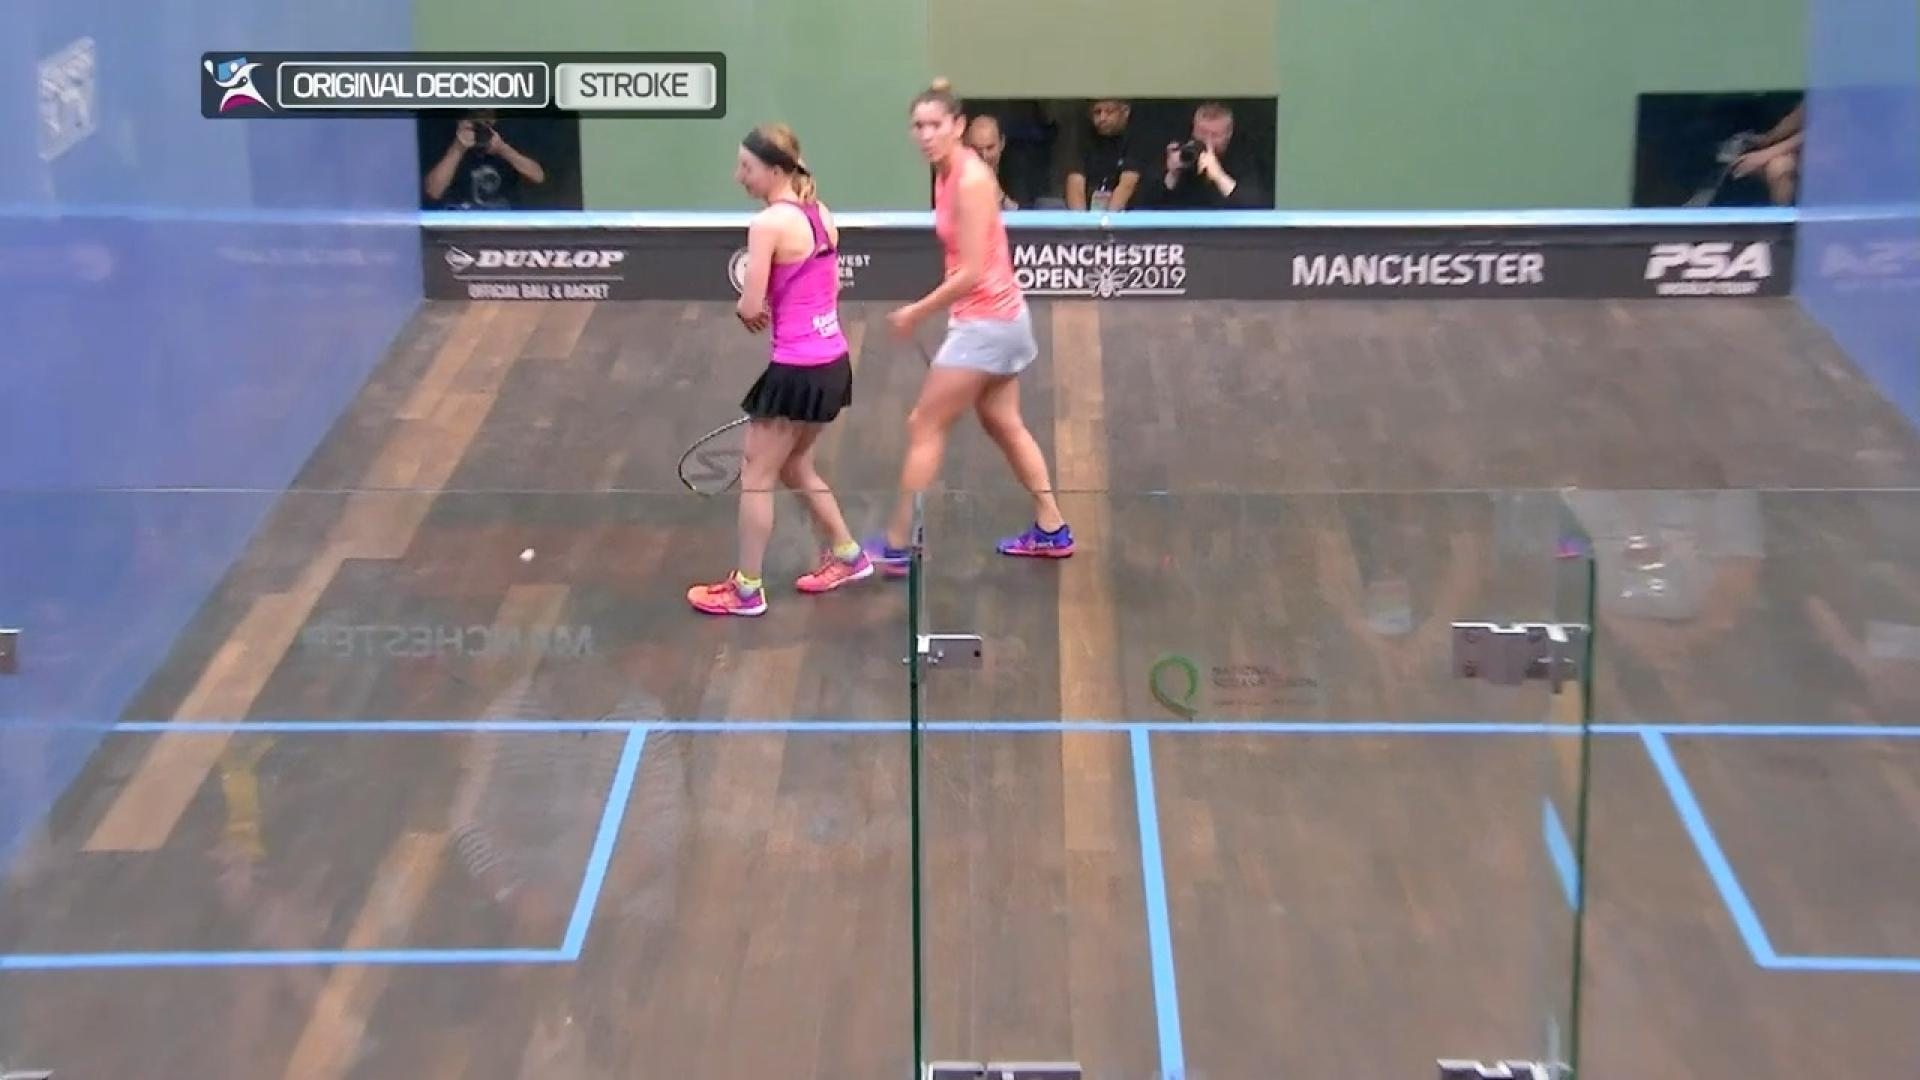Squash-Ball: (500, 527, 555, 585)
